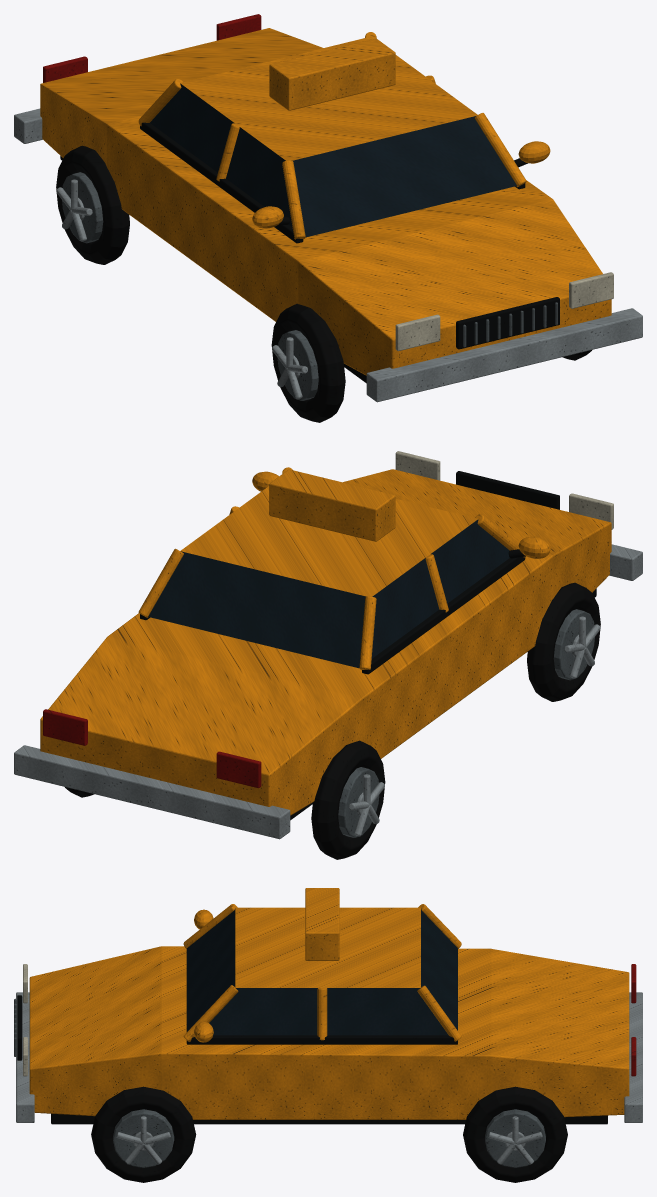
Rendered from PROP-78AF102C3CAE_lod0.glb.
3 views of the same model, one above another, from view 1: azimuth 30°, elevation 25°; view 2: azimuth 150°, elevation 25°; view 3: azimuth 270°, elevation 25° (orthographic). The views are drawn at different scales.
Parts seen in each view (by area): view 1: shaped_body_panels.024, sloped_cabin_glazing.024, roof_panel.022, bumper.024, tire.024, taxi_roof_sign.001, window_pillars.024, rim.024, radiator_grille.024, lamp_lenses.048, window_belt.024, rim_spokes.024 (+3 smaller); view 2: shaped_body_panels.024, sloped_cabin_glazing.024, roof_panel.022, bumper.024, tire.024, taxi_roof_sign.001, rim.024, window_pillars.024, lamp_lenses.049, window_belt.024, lamp_lenses.048, rim_spokes.024 (+2 smaller); view 3: shaped_body_panels.024, sloped_cabin_glazing.024, roof_panel.022, tire.024, rim.024, bumper.024, window_pillars.024, taxi_roof_sign.001, window_belt.024, chassis.024, rim_spokes.024, mirror.024 (+1 smaller).
Part boxes in pixels (x1,y1,x2,y2): shaped_body_panels.024: (40, 28, 611, 375); sloped_cabin_glazing.024: (150, 83, 516, 237); roof_panel.022: (180, 36, 477, 160); bumper.024: (14, 108, 642, 402); tire.024: (56, 145, 591, 422); taxi_roof_sign.001: (269, 38, 395, 110); window_pillars.024: (138, 32, 526, 239); rim.024: (62, 172, 318, 400); radiator_grille.024: (456, 297, 559, 349); lamp_lenses.048: (395, 272, 613, 351); window_belt.024: (140, 122, 525, 243); rim_spokes.024: (56, 179, 307, 399); shaped_body_panels.024: (40, 469, 611, 815); sloped_cabin_glazing.024: (148, 519, 509, 668); roof_panel.022: (180, 486, 477, 596); bumper.024: (14, 544, 642, 839); tire.024: (65, 582, 600, 859); taxi_roof_sign.001: (269, 469, 395, 541); rim.024: (338, 609, 594, 837); window_pillars.024: (138, 467, 524, 669); lamp_lenses.049: (43, 709, 261, 788); window_belt.024: (140, 557, 525, 674); lamp_lenses.048: (395, 451, 613, 529); rim_spokes.024: (349, 616, 600, 836); shaped_body_panels.024: (29, 946, 629, 1119); sloped_cabin_glazing.024: (186, 908, 457, 1035); roof_panel.022: (235, 907, 420, 987); tire.024: (91, 1086, 567, 1182); rim.024: (113, 1109, 545, 1167); bumper.024: (16, 992, 642, 1122); window_pillars.024: (183, 904, 461, 1041); taxi_roof_sign.001: (305, 888, 339, 960); window_belt.024: (186, 1035, 457, 1044); chassis.024: (51, 1113, 607, 1124); rim_spokes.024: (116, 1116, 542, 1164); mirror.024: (194, 909, 213, 1042).
Bounding box in the file's own units: 2.09 × 1.69 × 4.41.
Materials: 8 (8 with a texture image).
